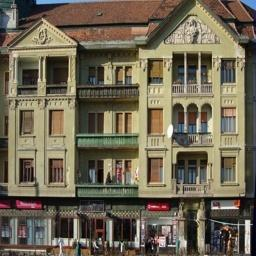building: (0, 0, 256, 249)
